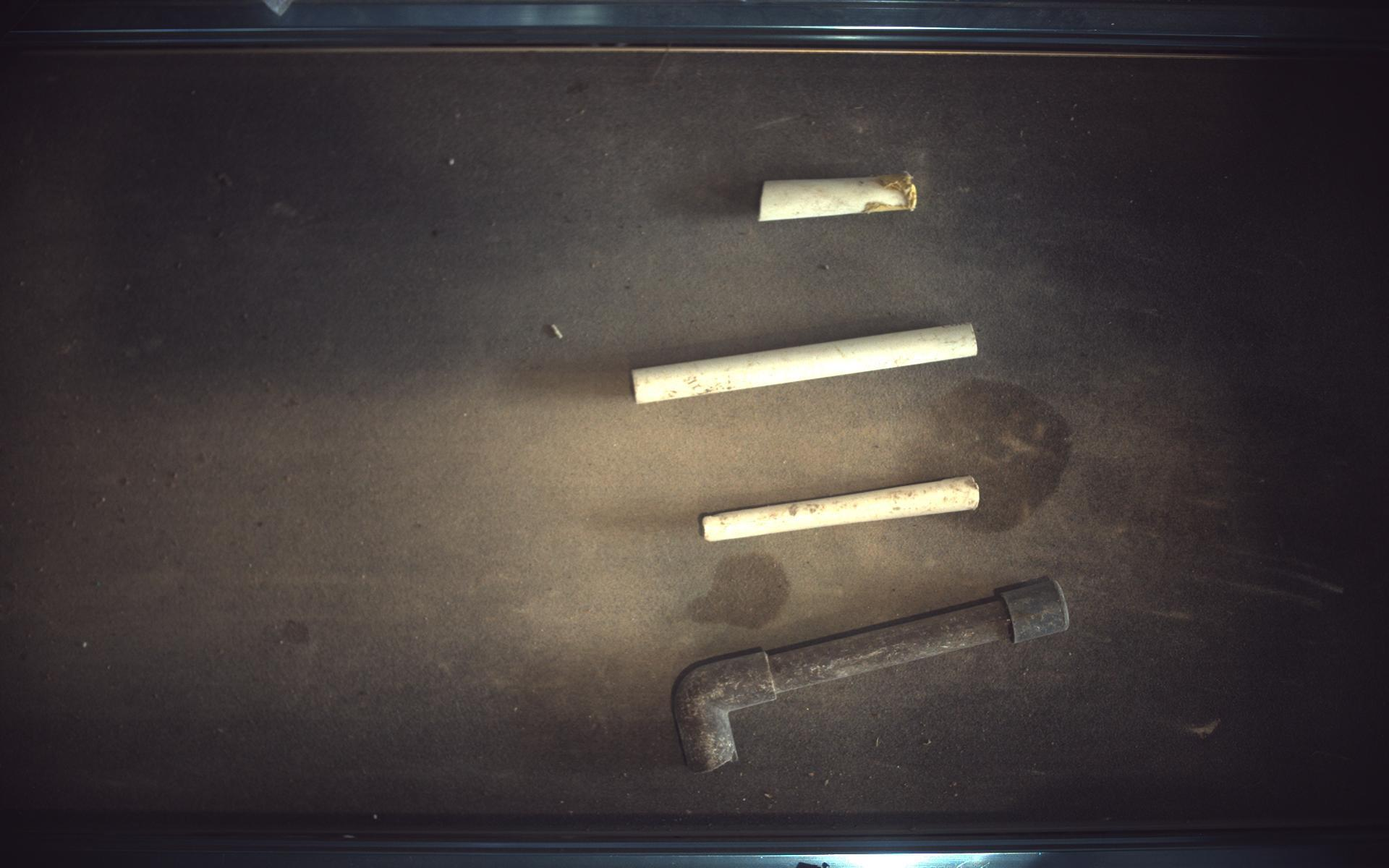pipes: (674, 578, 1071, 773), (633, 323, 980, 404), (701, 476, 982, 542), (760, 171, 918, 221)
